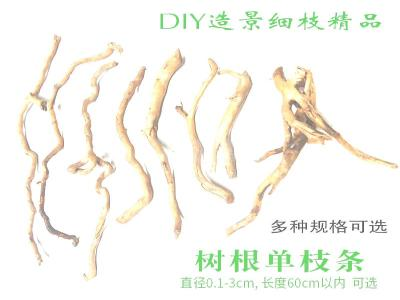Root: (226, 67, 397, 235), (18, 34, 123, 263), (176, 58, 252, 203), (68, 61, 118, 280), (142, 49, 182, 237), (116, 66, 153, 223)
